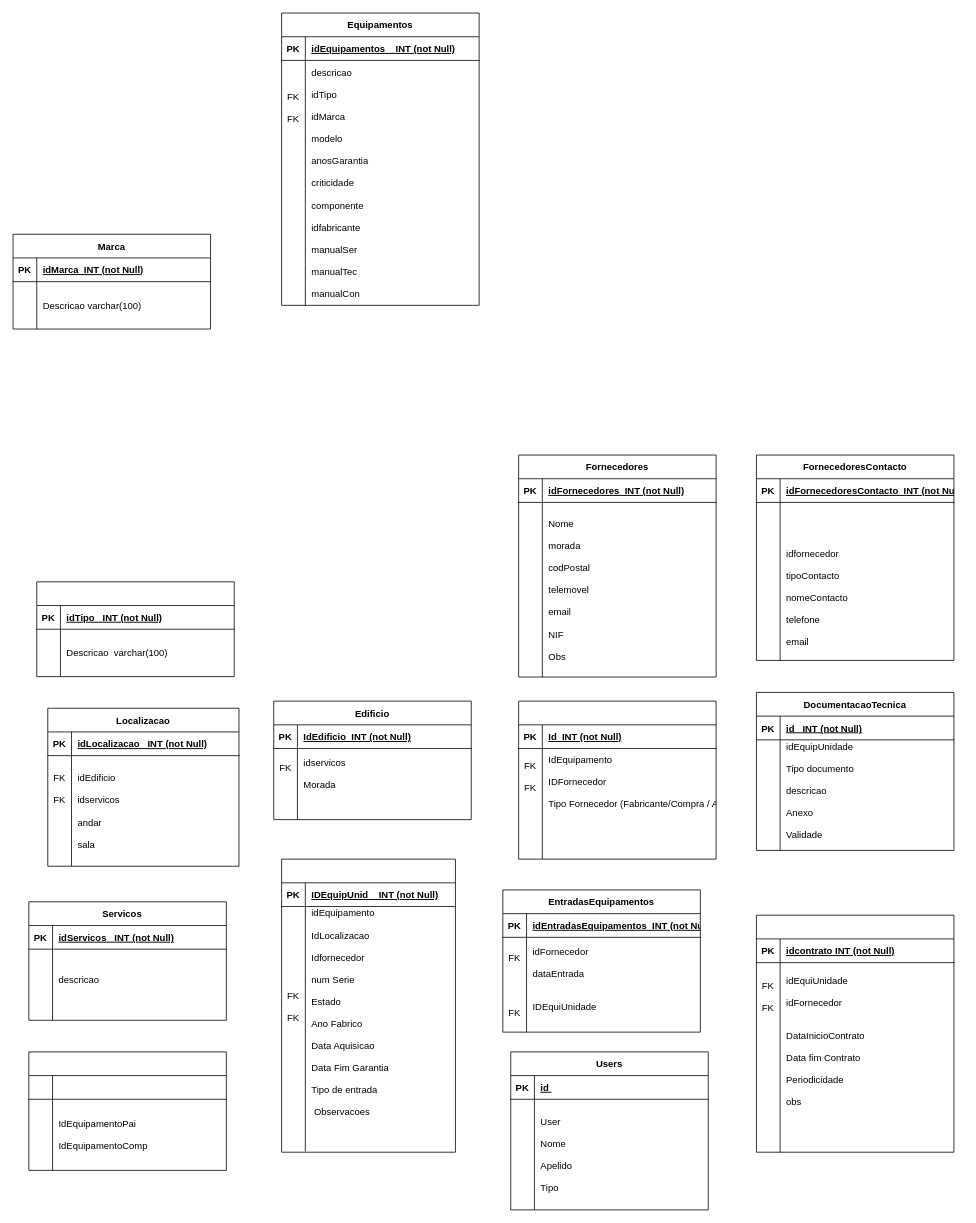
Some shapes in this 976 by 1223 pixel diagram are drawn without their labels. The box of each missing label's shape, as (x1, y1, x2, y2) in pixels:
ContratosManutencao: (756, 914, 954, 1152)
EquipamentosComponente: (28, 1051, 226, 1170)
EquipamentosFornecedores: (518, 700, 716, 859)
EquipamentosUnidade: (281, 858, 455, 1152)
TipoEquipamento: (36, 581, 234, 677)
